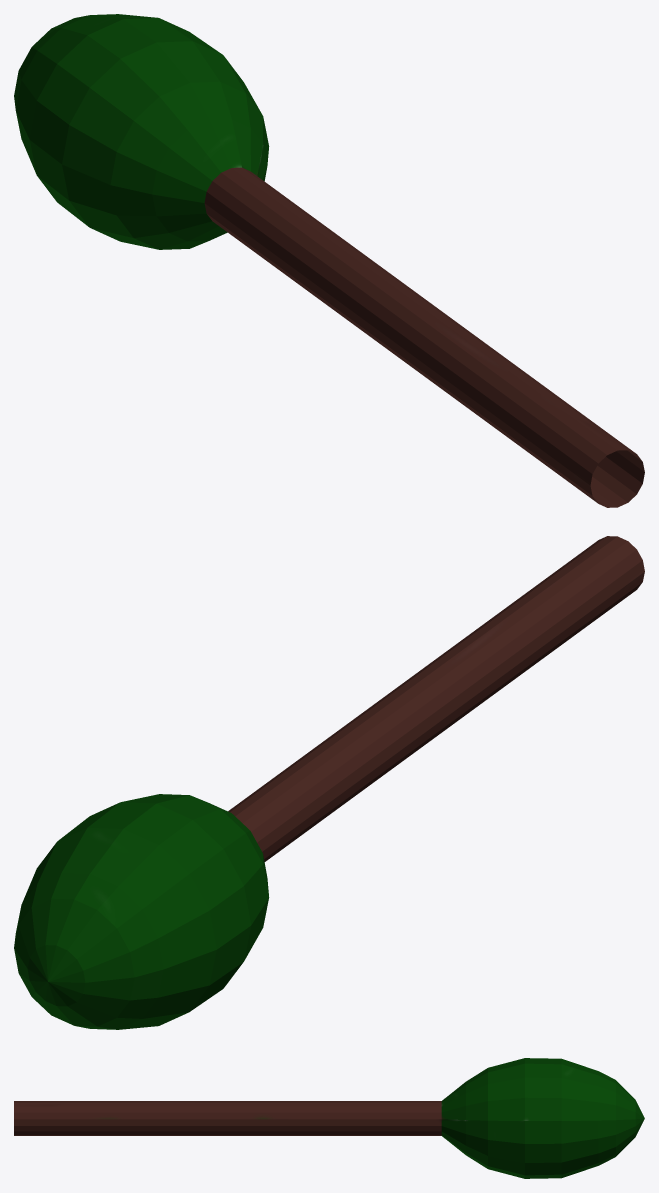
File: Tree3.fbx
The picture shows the model from 3 angles, top to bottom: view 1: azimuth 30°, elevation 25°; view 2: azimuth 150°, elevation 25°; view 3: azimuth 270°, elevation 25°; orthographic projection. The views are drawn at different scales.
Visible parts, largest first — view 1: Tree3; view 2: Tree3; view 3: Tree3.
Part boxes in pixels (left/top/right/bottom): Tree3: left=14, top=14, right=644, bottom=507; Tree3: left=14, top=536, right=644, bottom=1029; Tree3: left=14, top=1058, right=644, bottom=1178.
Size of the model in its own units: 2522 by 2522 by 13154.
1 material, 1 textured.
